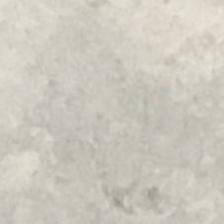Non_Crack: (8, 10, 214, 224)
